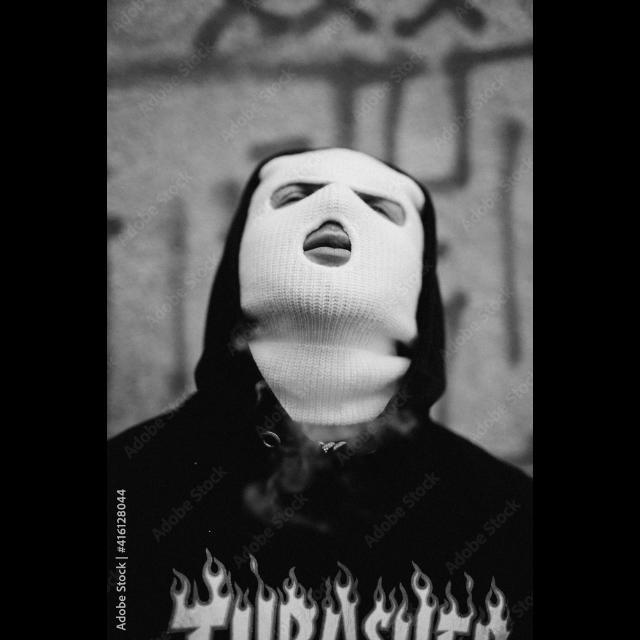criminal: (106, 146, 535, 640)
